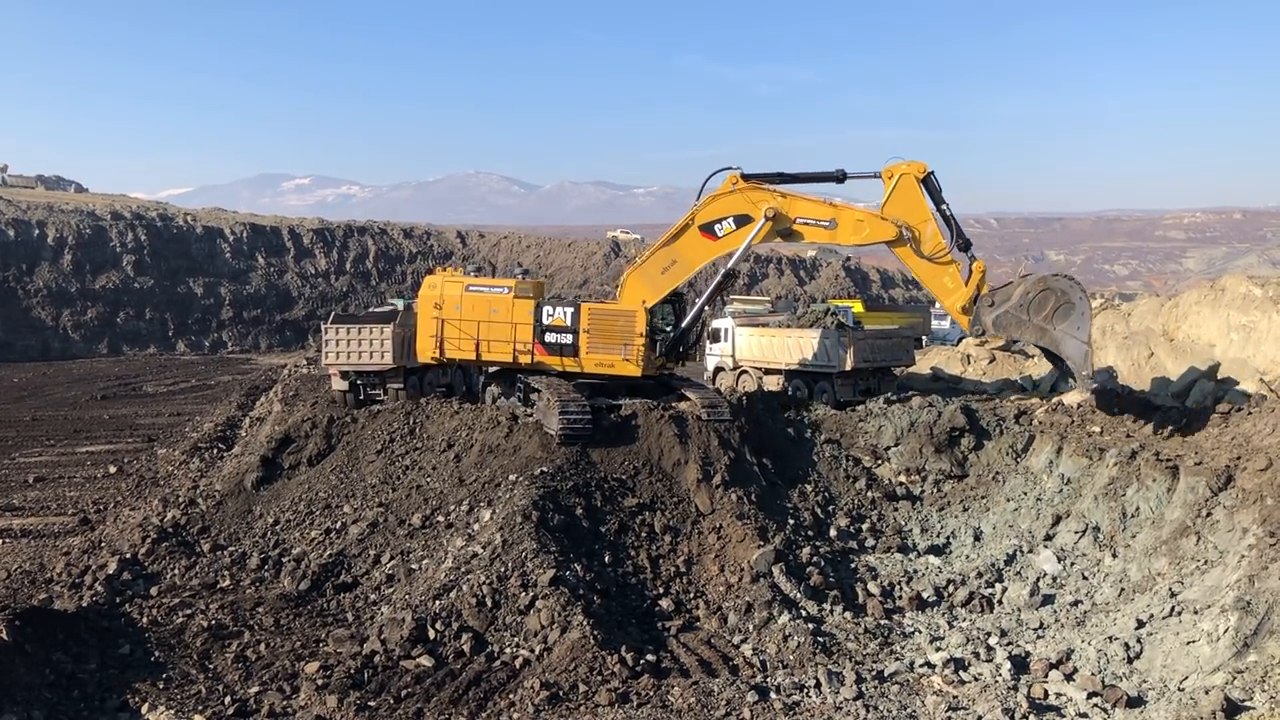empty: (963, 269, 1104, 399)
